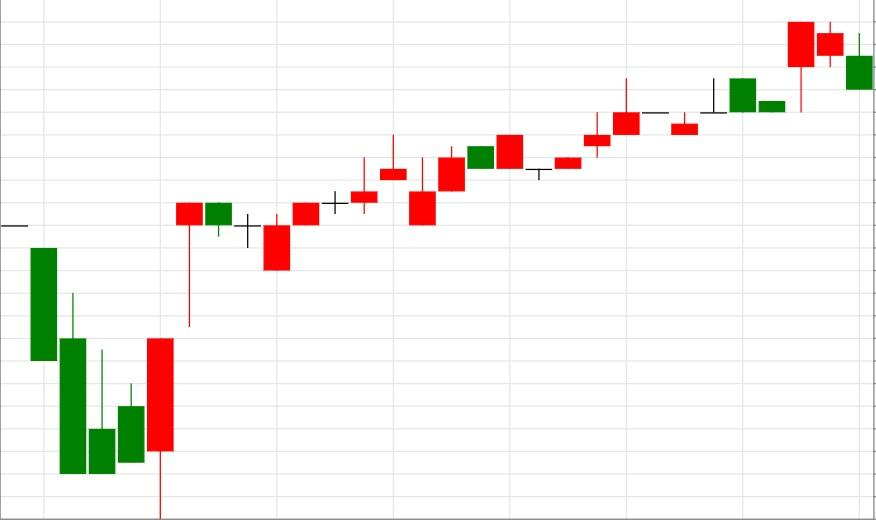hanging_man_fall: (88, 202, 204, 519)
